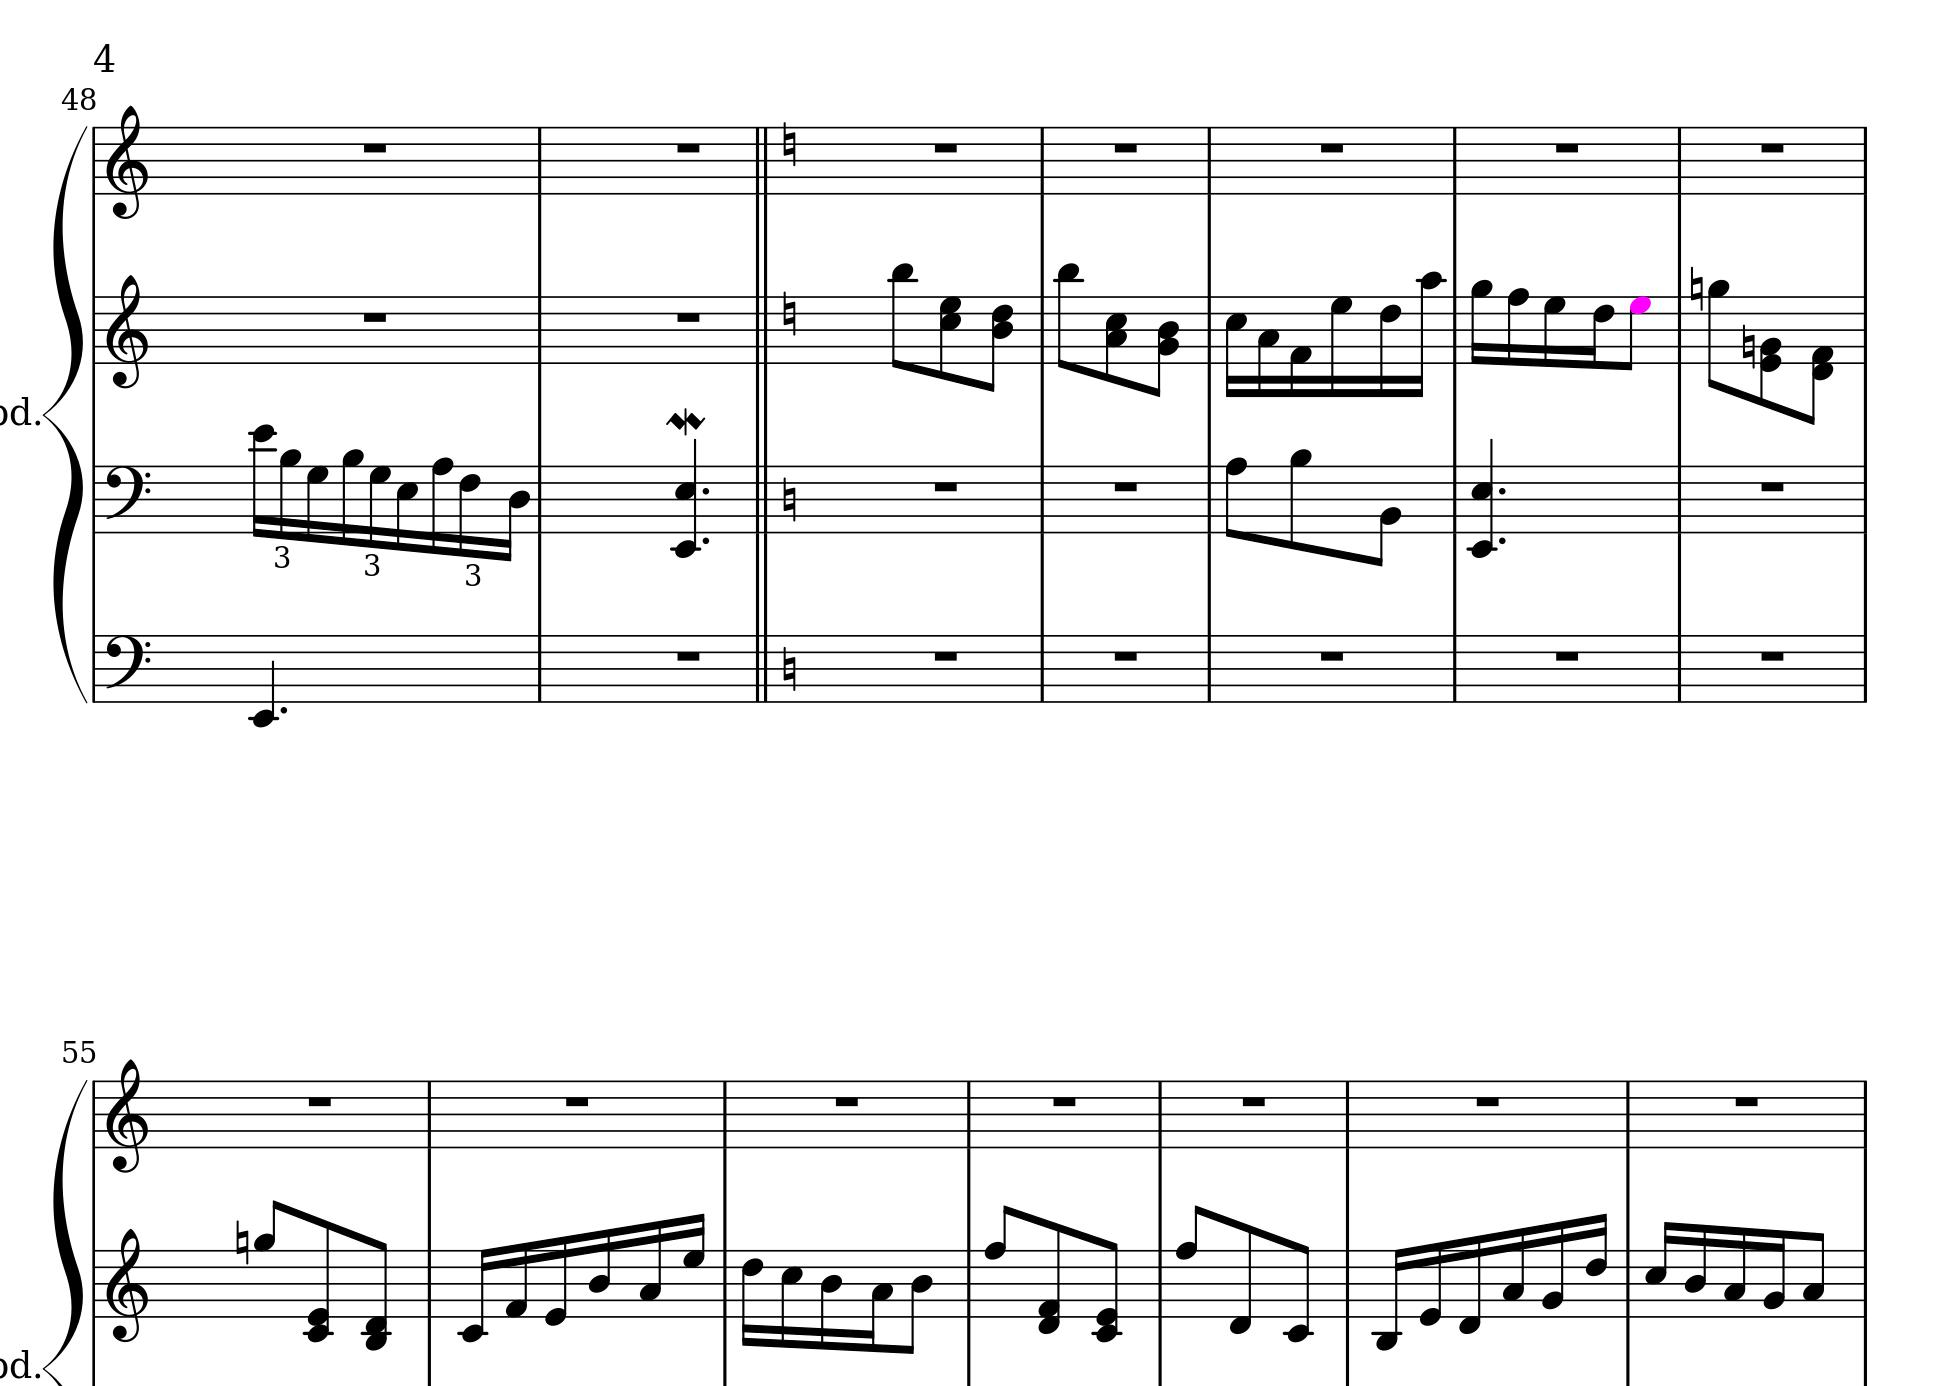16_-1: (1456, 1231, 1485, 1336)
16_-2: (457, 1246, 493, 1342)
16_-3: (1372, 1246, 1407, 1351)
16_0: (541, 1234, 570, 1327), (1416, 1239, 1444, 1327)
16_1: (1287, 294, 1314, 397), (502, 1239, 531, 1320)
16_10: (1408, 268, 1446, 397)
16_12: (249, 423, 276, 538)
16_2: (1540, 1218, 1567, 1318), (1762, 1227, 1788, 1320)
16_3: (862, 1246, 892, 1351), (637, 1216, 664, 1320), (1255, 295, 1281, 399), (1722, 1224, 1749, 1320), (1500, 1225, 1527, 1318)
16_4: (499, 463, 531, 562), (817, 1248, 844, 1351), (1683, 1221, 1710, 1320), (586, 1225, 613, 1320)
16_5: (1644, 1219, 1677, 1318), (778, 1246, 804, 1348), (1224, 294, 1248, 397), (394, 463, 418, 553)
16_6: (1584, 1210, 1611, 1318), (1377, 292, 1402, 397), (739, 1246, 765, 1348), (1584, 292, 1615, 370), (457, 463, 481, 558)
16_7: (1327, 292, 1354, 399), (681, 1210, 706, 1321), (367, 463, 391, 550), (1542, 292, 1567, 370), (304, 463, 328, 544)
16_8: (429, 454, 454, 556), (1506, 285, 1530, 367)
16_9: (340, 445, 364, 547), (277, 448, 301, 540), (1470, 277, 1494, 367)
3: (463, 562, 481, 586), (273, 544, 289, 568), (363, 553, 379, 576)
4: (91, 40, 115, 72), (60, 85, 78, 112)
4_-2: (249, 631, 277, 727)
4_-2_5: (670, 439, 703, 561)
5: (61, 1036, 79, 1063), (79, 1036, 97, 1063)
8: (79, 84, 97, 111)
8_-1: (1227, 1219, 1255, 1336)
8_-1_1: (1801, 295, 1834, 426), (1036, 1218, 1066, 1335)
8_-2: (1284, 1239, 1315, 1342)
8_-2_0: (303, 1213, 334, 1345), (1090, 1236, 1125, 1342)
8_-2_5: (1465, 438, 1500, 559)
8_-3_-1: (361, 1237, 393, 1354)
8_0_2: (1759, 295, 1785, 411)
8_11: (1056, 261, 1083, 376), (889, 259, 916, 373)
8_2: (1369, 463, 1402, 568)
8_2_4: (1150, 295, 1182, 397)
8_3: (1801, 1228, 1827, 1318)
8_3_5: (1104, 295, 1128, 385)
8_4: (904, 1246, 933, 1354)
8_4_6: (984, 295, 1017, 394)
8_5_7: (937, 292, 963, 385)
8_7: (1620, 294, 1651, 372)
8_8: (982, 1201, 1017, 1320), (1174, 1203, 1207, 1320), (1224, 454, 1248, 540)
8_9: (252, 1197, 283, 1320), (1287, 447, 1314, 552), (1707, 277, 1731, 391)
Brace: (49, 124, 88, 703)
Double_barline: (748, 126, 774, 193), (748, 465, 774, 532), (748, 295, 774, 361), (748, 634, 772, 702)
Fclef: (102, 631, 151, 703), (103, 463, 151, 534)
Gclef: (103, 103, 151, 220), (103, 1056, 148, 1174), (103, 273, 148, 390), (105, 1225, 150, 1342)
Mordent: (664, 405, 708, 433)
Natural: (232, 1216, 250, 1267), (780, 643, 798, 693), (780, 289, 798, 337), (780, 475, 798, 523), (780, 118, 796, 168), (1740, 322, 1756, 372), (1689, 265, 1704, 313)
Rests1: (1110, 477, 1143, 496), (358, 307, 391, 325), (1110, 646, 1143, 664), (1551, 646, 1584, 664), (930, 646, 961, 664), (1317, 646, 1348, 664), (1756, 646, 1788, 664), (561, 1092, 592, 1110), (831, 1092, 862, 1110), (1048, 1092, 1080, 1110), (1239, 1092, 1270, 1110), (1731, 1092, 1762, 1110), (358, 139, 391, 156), (1110, 139, 1143, 156), (1551, 139, 1584, 156), (673, 139, 703, 157), (673, 307, 703, 325), (673, 646, 703, 664), (304, 1092, 334, 1110), (1473, 1092, 1503, 1110), (930, 139, 961, 156), (930, 478, 961, 495), (1756, 477, 1788, 493), (1317, 139, 1347, 156), (1758, 139, 1788, 156)
Single_barline: (1671, 295, 1689, 364), (715, 1249, 733, 1318), (1152, 1249, 1170, 1318), (1201, 295, 1219, 363), (531, 465, 549, 532), (1671, 465, 1689, 532), (1671, 634, 1689, 702), (961, 1249, 979, 1317), (421, 1249, 439, 1317), (1620, 1249, 1638, 1317), (531, 295, 549, 361), (1446, 466, 1464, 532), (1446, 634, 1464, 700), (715, 1081, 733, 1147), (1035, 295, 1051, 364), (1447, 295, 1464, 364), (1201, 465, 1218, 534), (1339, 1249, 1356, 1318), (1857, 1249, 1873, 1318), (87, 126, 103, 193), (1857, 295, 1873, 363), (87, 297, 103, 364), (531, 634, 547, 702), (1035, 634, 1051, 702), (1201, 634, 1218, 702), (87, 1080, 103, 1147), (960, 1080, 976, 1147), (1857, 1080, 1873, 1147), (531, 127, 547, 193), (1201, 127, 1218, 193), (1447, 127, 1464, 193), (1671, 127, 1687, 193), (1035, 466, 1051, 532), (421, 1081, 438, 1147), (1152, 1081, 1168, 1147), (1620, 1081, 1636, 1147), (1857, 126, 1872, 193), (88, 465, 103, 532), (1857, 465, 1872, 532), (88, 634, 103, 702), (1857, 634, 1872, 702), (1035, 127, 1050, 193), (1341, 1080, 1356, 1146), (88, 1249, 102, 1317)
dot: (1497, 532, 1509, 547), (700, 532, 712, 547), (700, 484, 712, 496), (1497, 484, 1509, 496), (277, 703, 289, 715)
